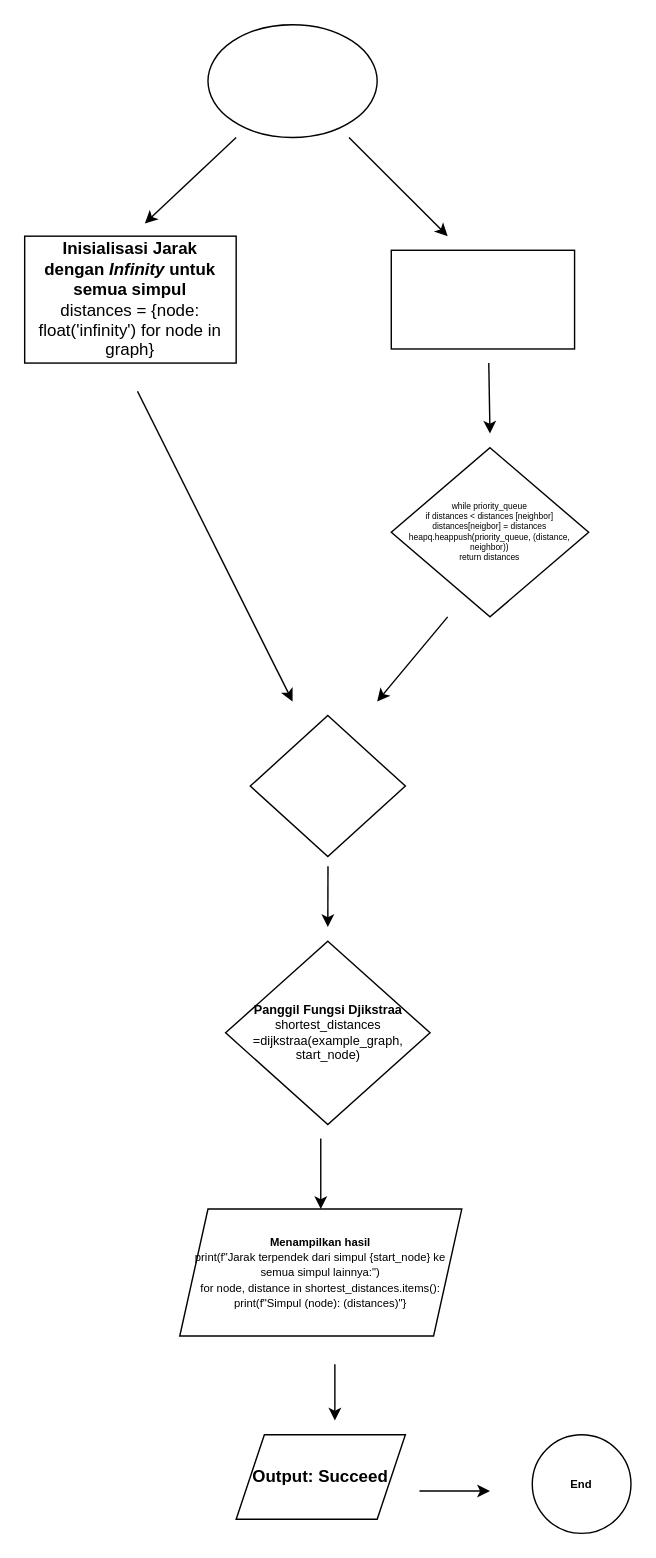
Some shapes in this 656 by 1558 pixel diagram are drawn without their labels. Here are the shapes that lost their labels. From the top down, the centre of each, then its label:
point (292, 80): Start
point (482, 299): Initialize Priority Queue dengan simpul awal priority_queue = [(0, start)]
point (327, 785): Simpul awal start node ="A"
